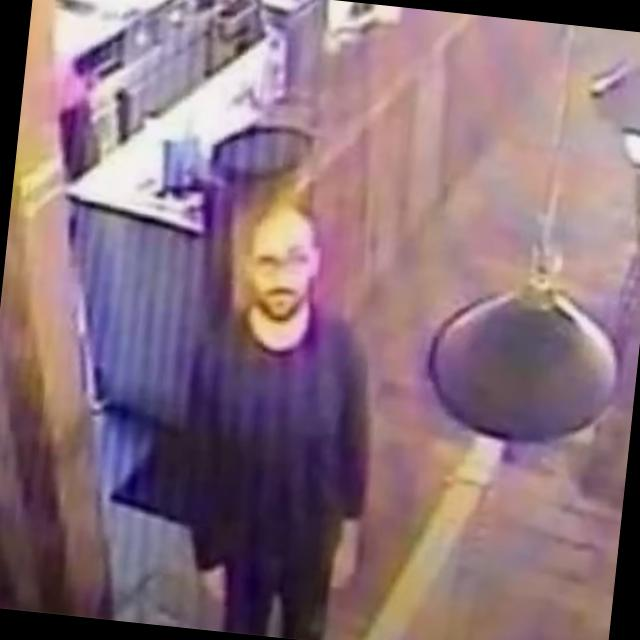person: (161, 183, 393, 640)
